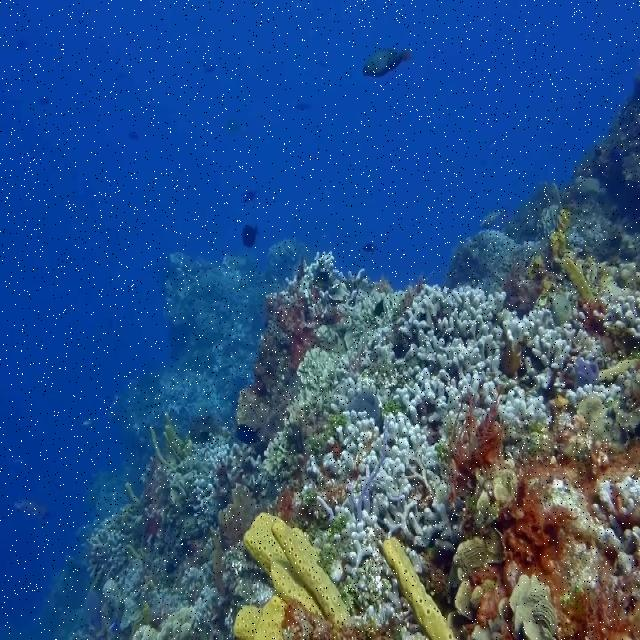fish: (362, 48, 409, 77), (13, 499, 49, 519), (235, 423, 263, 445), (479, 207, 505, 228), (242, 224, 261, 247), (227, 117, 245, 132), (14, 35, 30, 50), (485, 137, 500, 153), (374, 298, 384, 317), (242, 189, 259, 200), (38, 94, 52, 107), (79, 417, 94, 429), (362, 241, 376, 253), (203, 62, 216, 74), (295, 102, 308, 111), (128, 129, 138, 140)
reefs: (40, 74, 639, 639)
